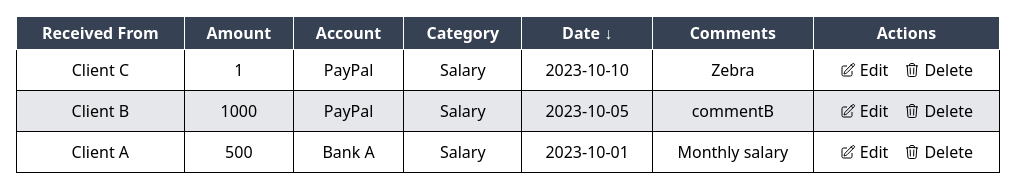
Test: IncomeTable › sorts comment with different capitalization
Click the column heading "Comments" at (733, 33), box [652, 16, 813, 50]
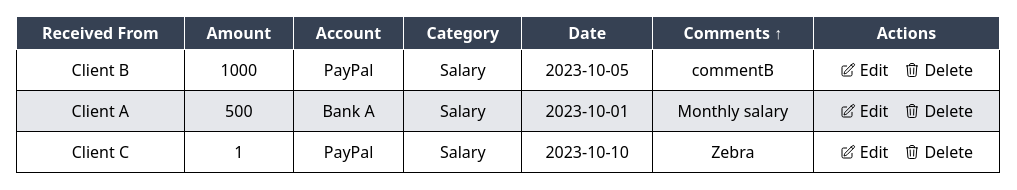
Check: the column heading "Comments ↑" is shown, box [652, 16, 813, 50]
